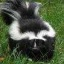skunk: (1, 1, 55, 58)
